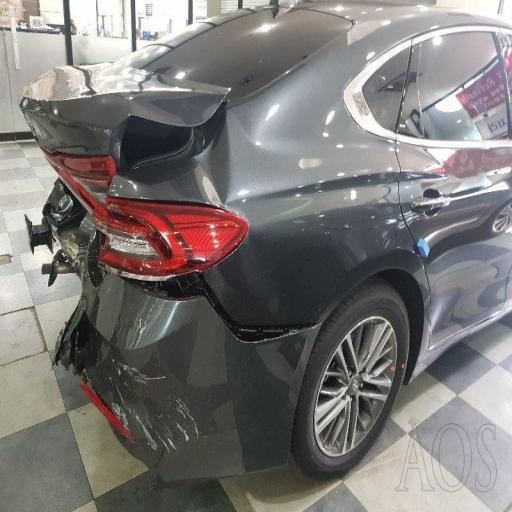broken: (10, 63, 271, 437)
